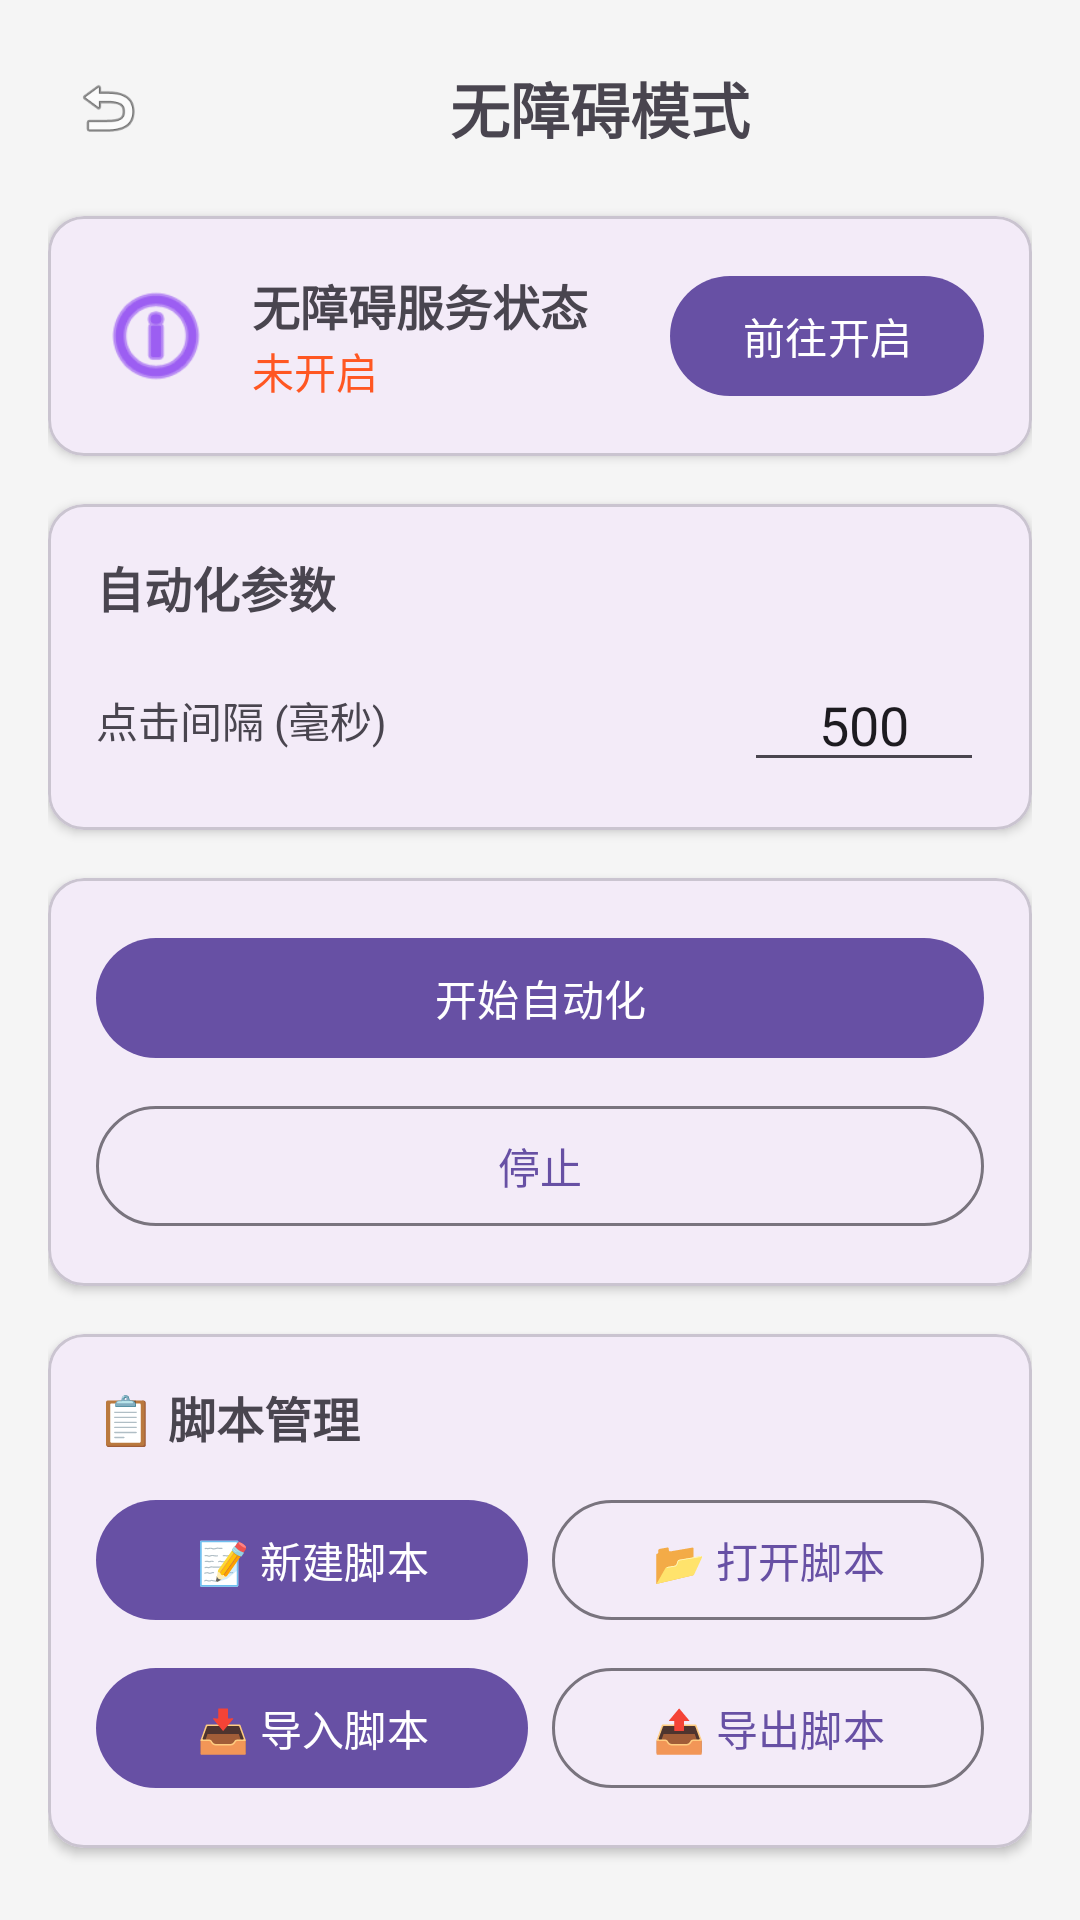

Icons on this 1080 x 1920 Android screen, each with its box as (x1, y1, x2, y2):
info details: (113, 293, 199, 379)
revert: (83, 85, 135, 132)
